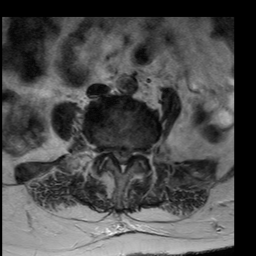CCS_normal: (119, 142, 126, 175)
LFS_stenosis: (134, 143, 141, 163)
LLS_stenosis: (126, 142, 133, 163)
RFS_stenosis: (103, 141, 112, 161)
RLS_stenosis: (112, 141, 120, 162)
